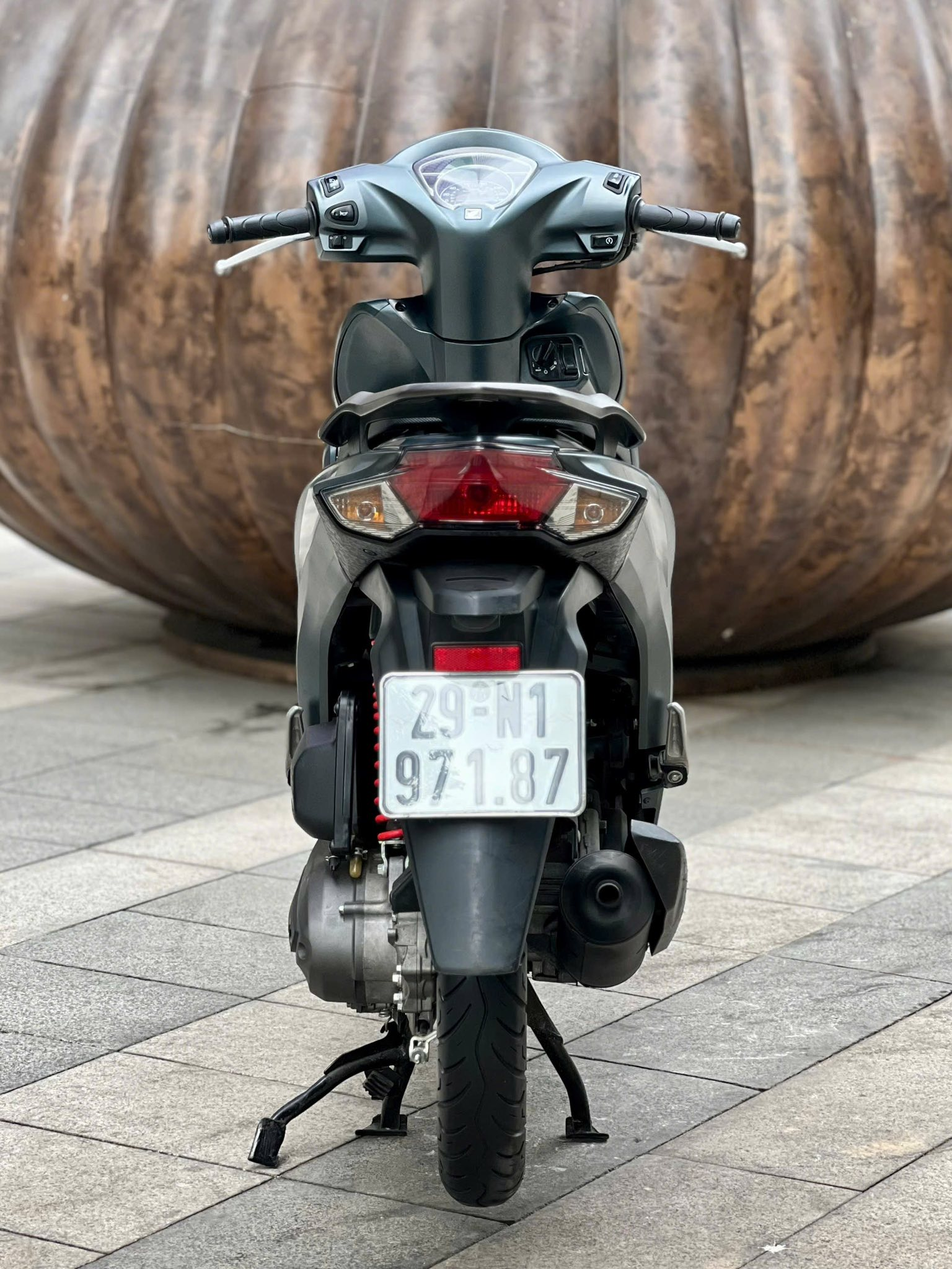bien_so: (375, 663, 598, 834)
